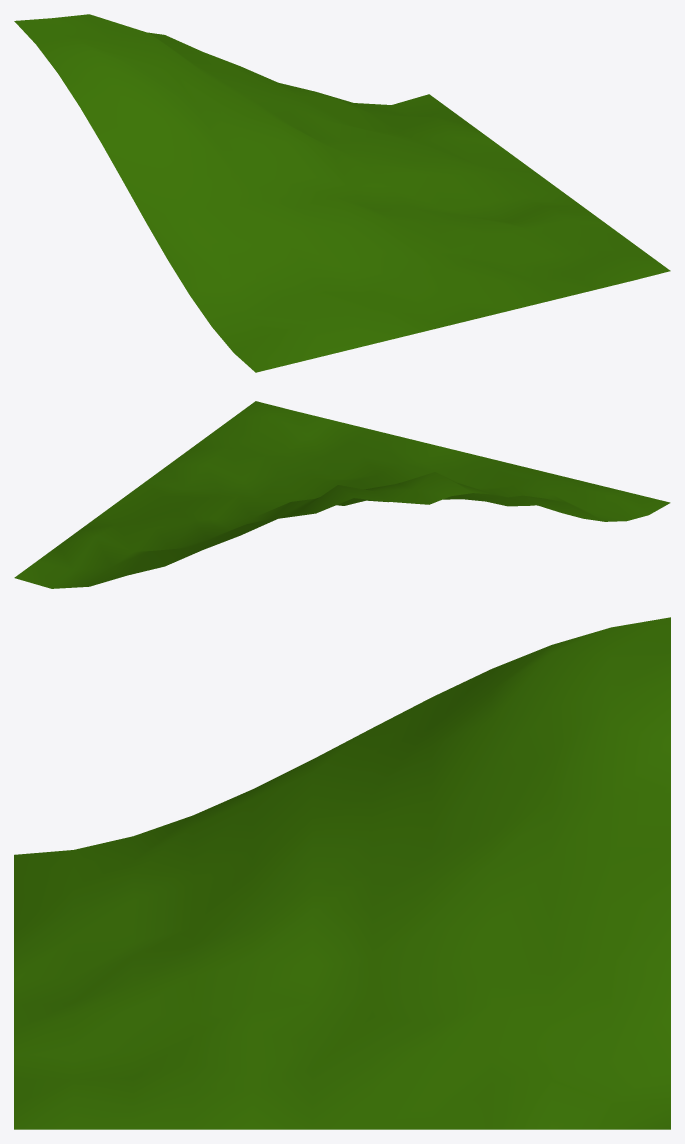
The model's file is Cave Left Slope.fbx.
The picture shows the model from 3 angles, top to bottom: view 1: azimuth 30°, elevation 25°; view 2: azimuth 150°, elevation 25°; view 3: azimuth 270°, elevation 25°; orthographic projection. The views are drawn at different scales.
Parts seen in each view (by area): view 1: Snow.5608; view 2: Snow.5608; view 3: Snow.5608.
Part boxes in pixels (<box>): Snow.5608: <box>14,14,670,372</box>; Snow.5608: <box>14,401,670,588</box>; Snow.5608: <box>14,617,670,1129</box>.
Size of the model in its own units: 200 by 81.1 by 202.
